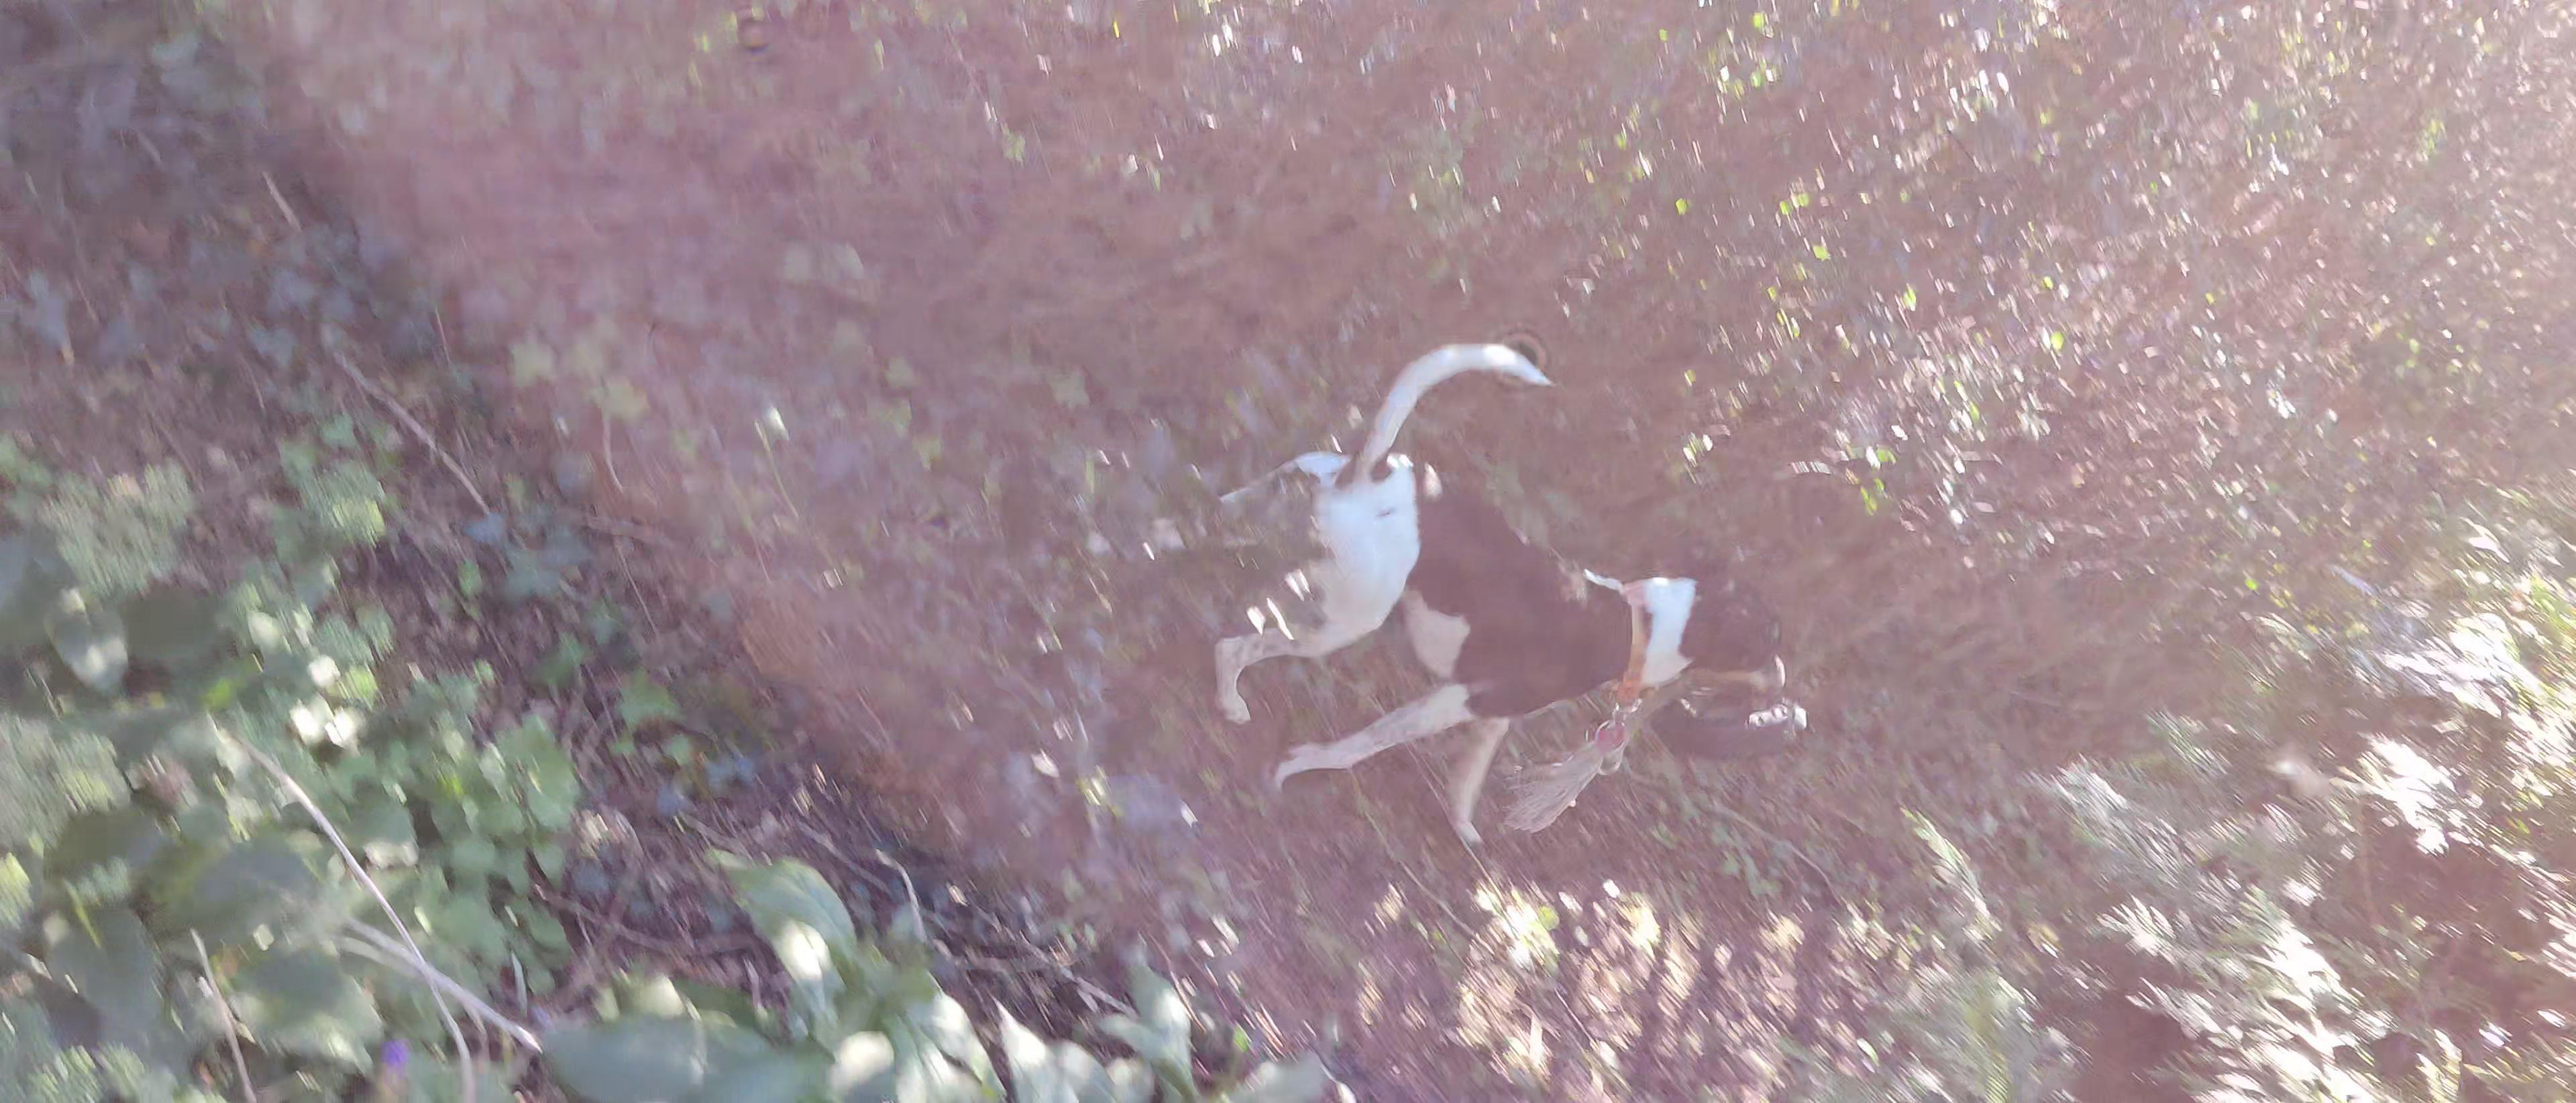Dog: (1046, 339, 1791, 851)
